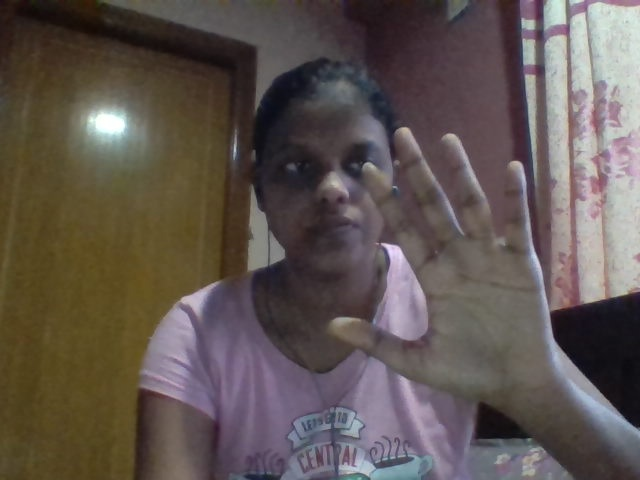Hello: (293, 111, 620, 420)
